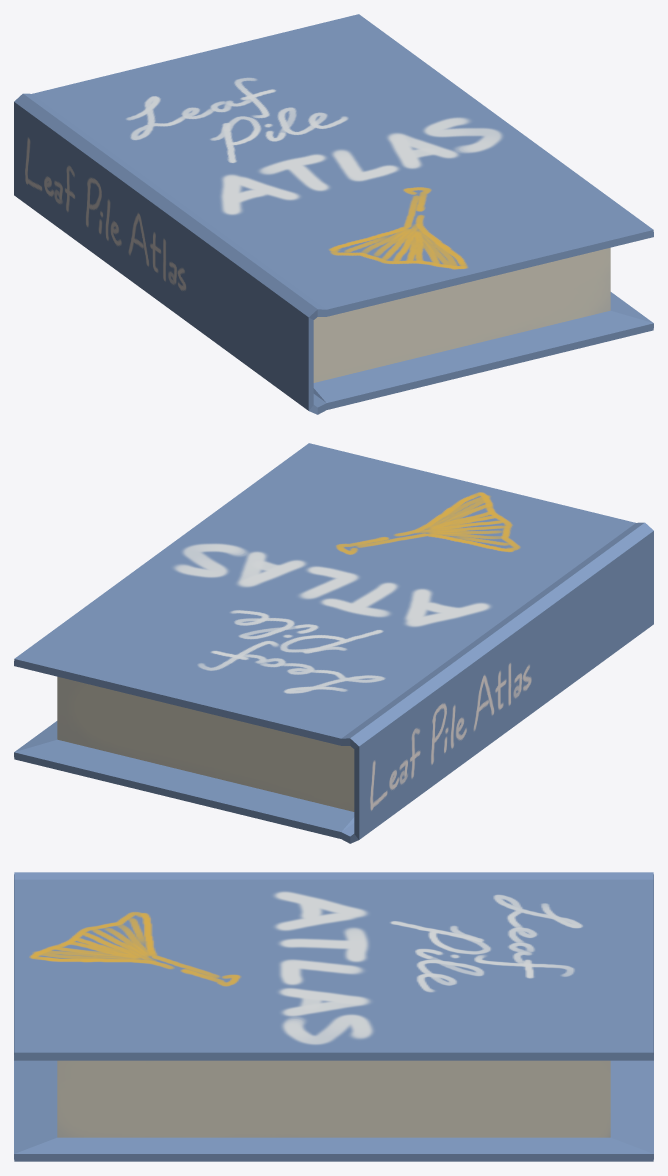
Rendered from book3.glb.
3 renders of one model, top to bottom at view 1: azimuth 30°, elevation 25°; view 2: azimuth 150°, elevation 25°; view 3: azimuth 270°, elevation 25°, orthographic. The views are drawn at different scales.
Parts seen in each view (by area): view 1: Cube.002; view 2: Cube.002; view 3: Cube.002.
Boxes of the visible parts, left/top/right/bottom form: Cube.002: left=14, top=14, right=653, bottom=414; Cube.002: left=14, top=443, right=653, bottom=843; Cube.002: left=14, top=872, right=653, bottom=1161.
Size of the model in its own units: 1.56 by 0.4565 by 2.31.
Materials: 1 (1 with a texture image).
